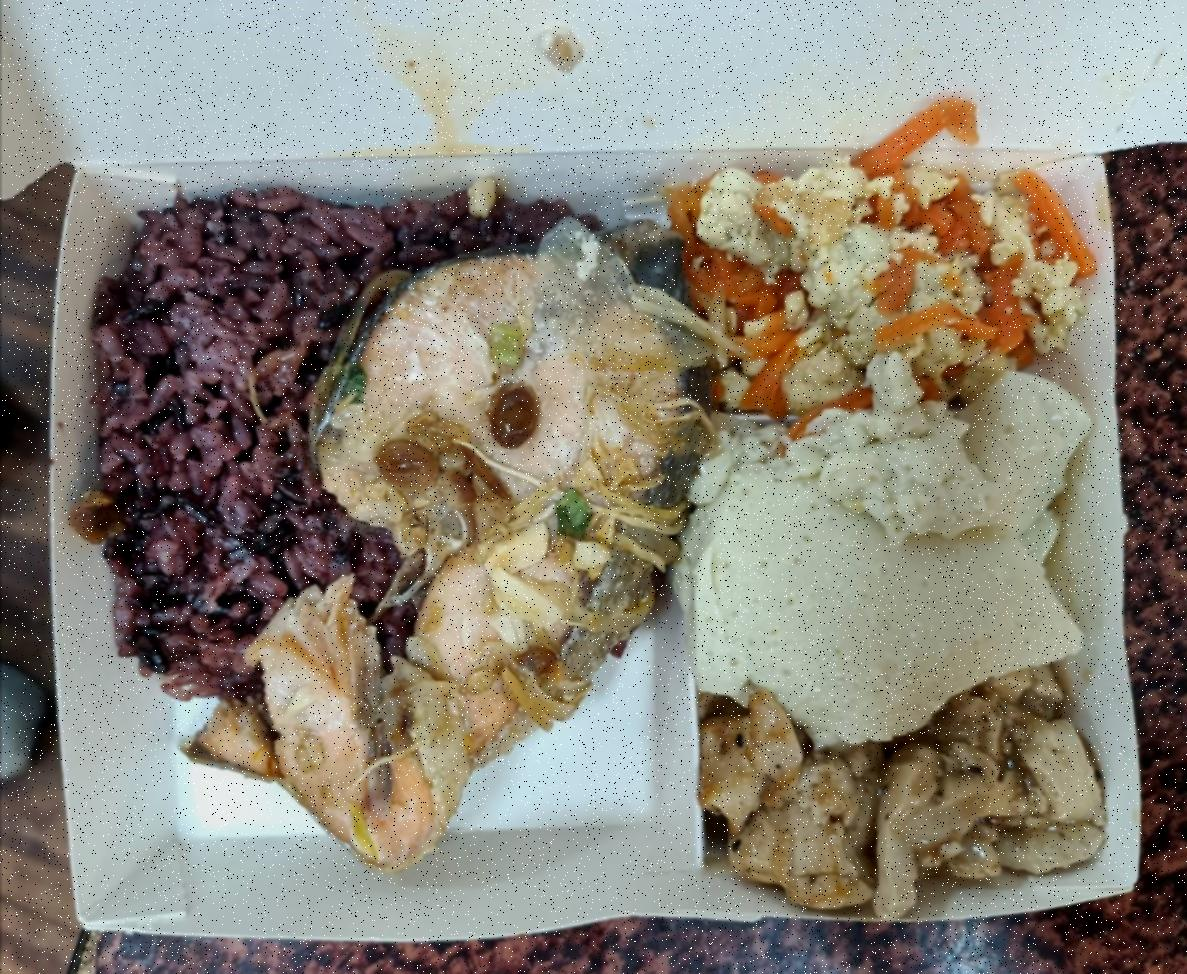big grilled chicken leg: (21, 146, 1162, 944)
braised fish: (113, 198, 643, 727)
braised fish fillet: (698, 428, 1103, 717), (688, 173, 1080, 411), (706, 680, 1118, 903)
brown rice: (313, 237, 692, 848)
